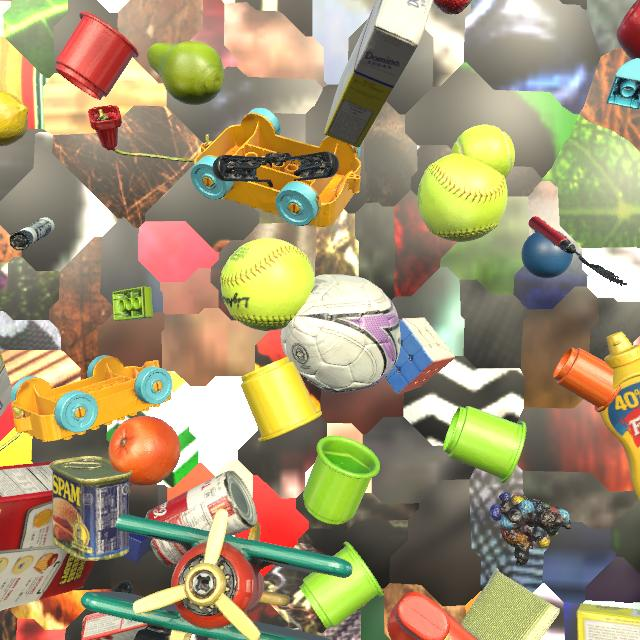ycb_003_cracker_box: (0, 457, 132, 611)
ycb_004_sugar_box: (324, 0, 433, 148), (577, 603, 640, 640), (0, 351, 13, 417)
ycb_005_tomato_soup_can: (145, 470, 257, 568)
ycb_006_mustard_bottle: (599, 331, 640, 501)
ycb_009_gelatin_box: (81, 612, 147, 640)
ycb_010_potted_meat_can: (49, 456, 133, 561)
ycb_012_strawberry: (434, 0, 472, 14)
ycb_013_apple: (616, 0, 640, 60)
ycb_014_lemon: (0, 91, 29, 147)
ycb_016_pear: (147, 41, 224, 105)
ycb_017_orange: (108, 416, 181, 486)
